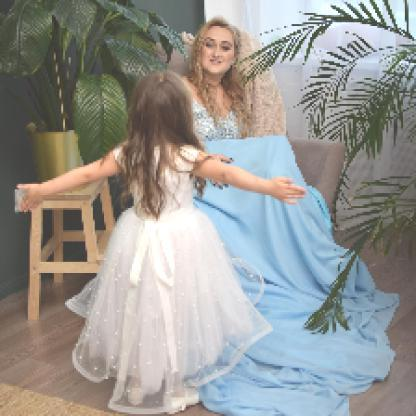child: (16, 72, 310, 416)
